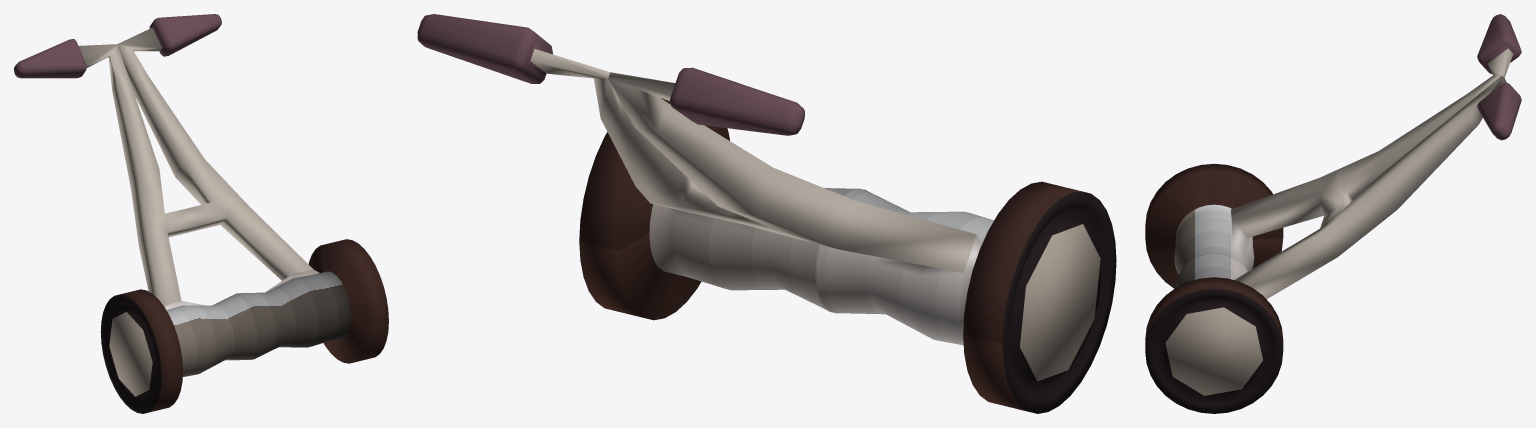
The model's file is hand_mower.glb.
3 renders of one model, left to right at view 1: azimuth 30°, elevation 25°; view 2: azimuth 150°, elevation 25°; view 3: azimuth 270°, elevation 25°, orthographic. The views are drawn at different scales.
Visible parts, largest first — view 1: Hand_Mower; view 2: Hand_Mower; view 3: Hand_Mower.
Boxes of the visible parts, left/top/right/bottom form: Hand_Mower: left=14, top=14, right=388, bottom=413; Hand_Mower: left=417, top=14, right=1116, bottom=413; Hand_Mower: left=1145, top=14, right=1521, bottom=413.
Bounding box in the file's own units: 1.04 × 1.13 × 1.32.
1 material, 1 textured.
